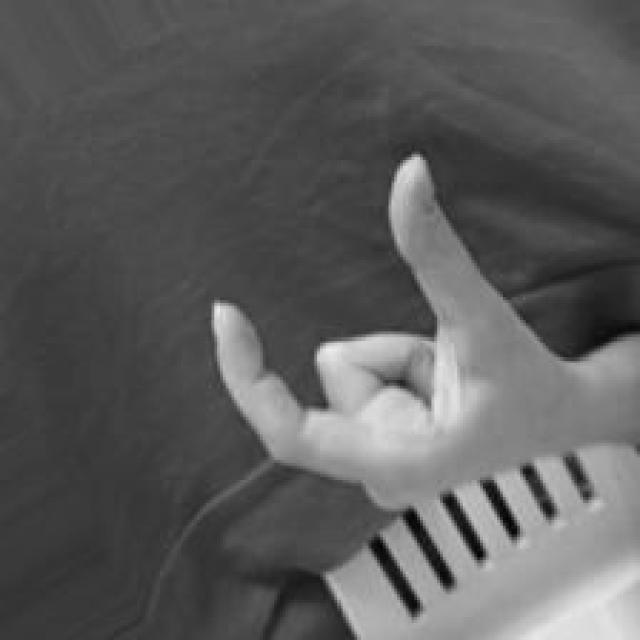U: (203, 149, 562, 516)
